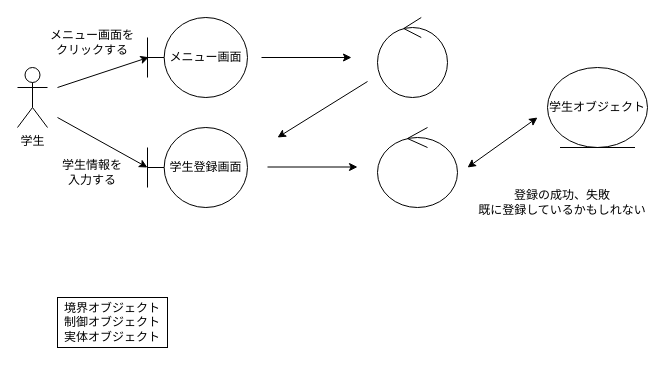
Some shapes in this 665 by 365 pixel diagram are drawn without their labels. The shapes that lost their labels are listed below. From the top down, each one's centre as x and y in pixels, then its label:
At [412,57]: "表示".
At [417,167]: "学生情報登録".
